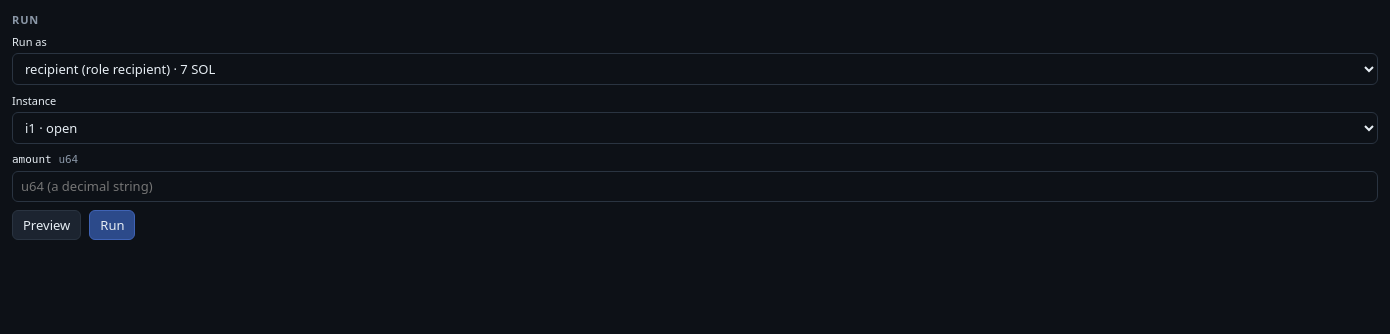
Test: RunStepForm › shows a terminal rejection's message and hint
Expected: the dropdown with test id "run-as" shows "recipient (role recipient) · 7 SOL", [12,53,1378,85]
In the field with placeholder "u64 (a decimal string)": (695, 186) [12,171,1378,202], type "1"
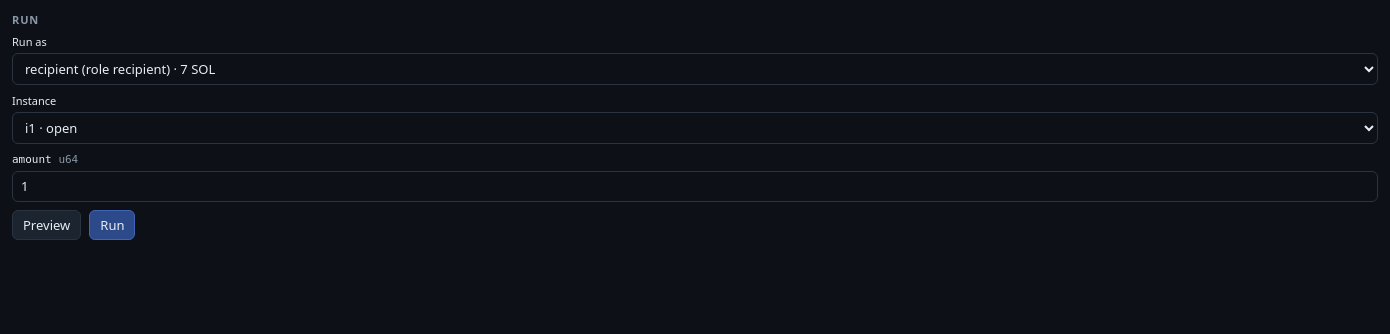
Click the button with test id "preview-button": (47, 225) [12,210,81,240]
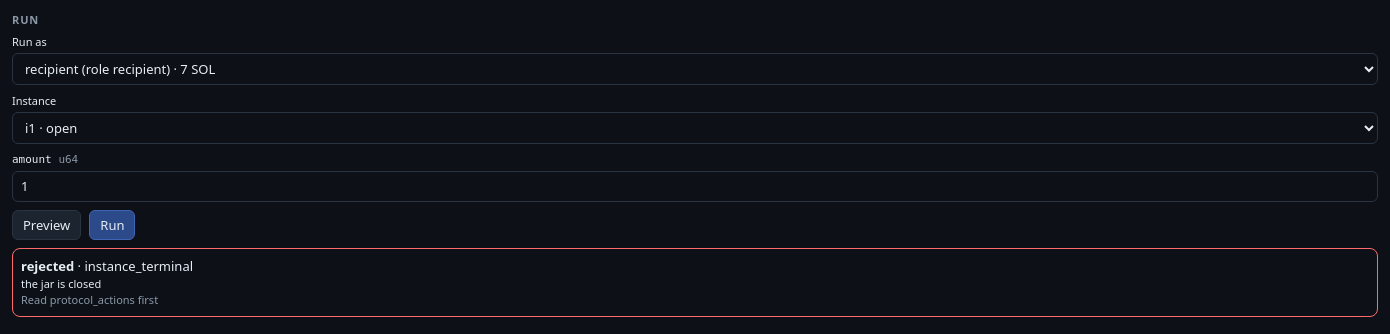
Expected: the element with test id "run-result" shows "instance_terminal", [74,257,193,275]
Expected: the text with test id "run-rejection" reads "the jar is closed", [21,276,101,291]
Expected: the text with test id "run-hint" reads "Read protocol_actions first", [21,292,158,307]
